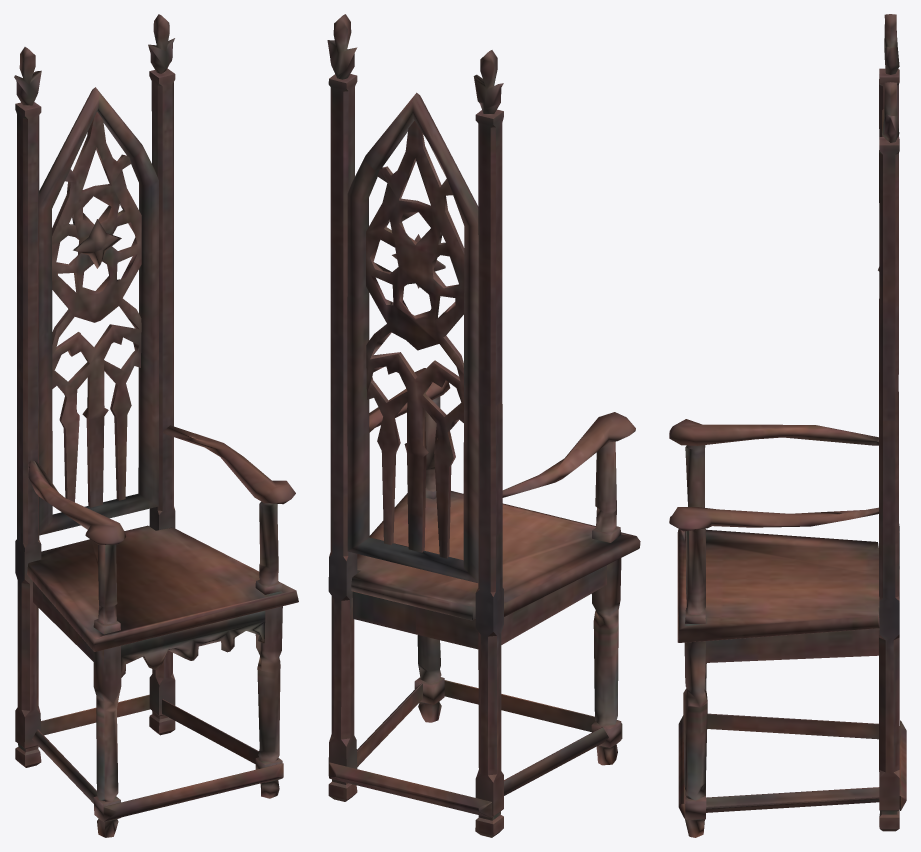
Rendered from chair.glb.
The picture shows the model from 3 angles, left to right: view 1: azimuth 30°, elevation 25°; view 2: azimuth 150°, elevation 25°; view 3: azimuth 270°, elevation 25°; orthographic projection. The views are drawn at different scales.
Visible parts, largest first — view 1: WoodenChair_01; view 2: WoodenChair_01; view 3: WoodenChair_01.
Boxes of the visible parts, bbox=[...] form: WoodenChair_01: bbox=[14, 14, 298, 837]; WoodenChair_01: bbox=[327, 14, 640, 837]; WoodenChair_01: bbox=[669, 14, 906, 837].
Size of the model in its own units: 0.6844 by 2.27 by 0.6555.
Materials: 1 (1 with a texture image).
